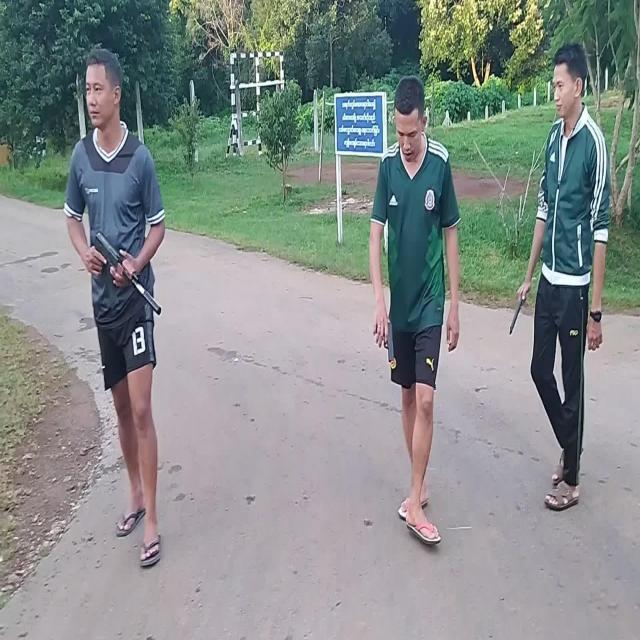gun: (95, 233, 161, 315), (384, 323, 394, 363)
